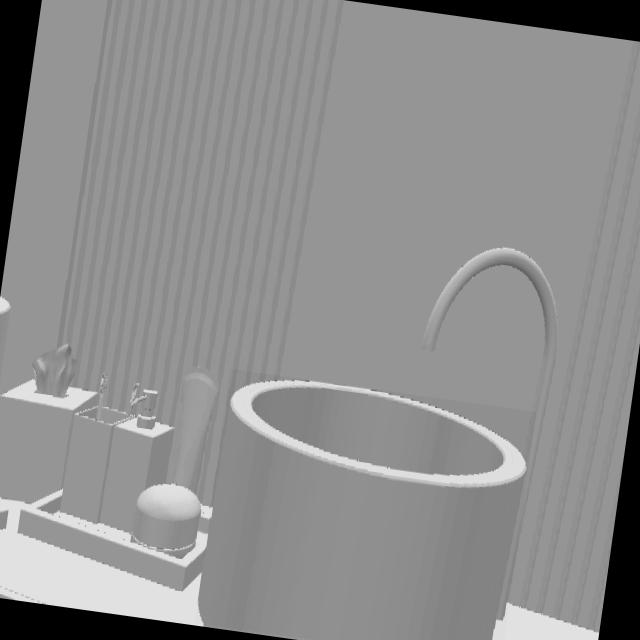washbasin: (197, 381, 529, 640)
